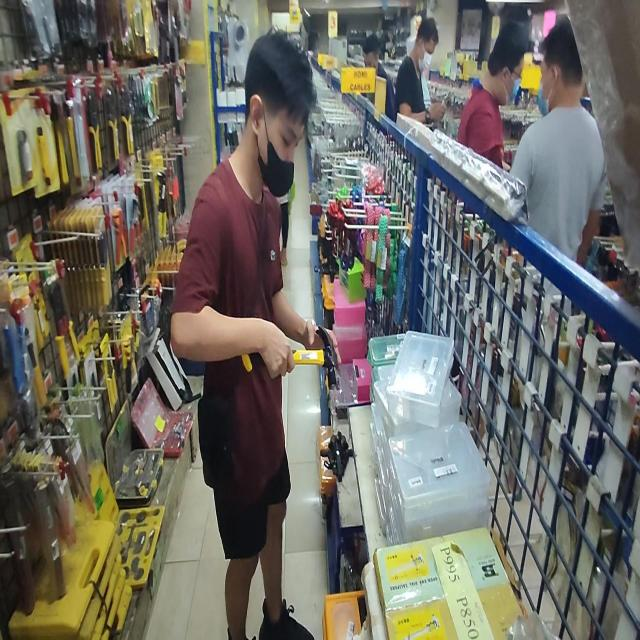hammer: (242, 324, 336, 390)
